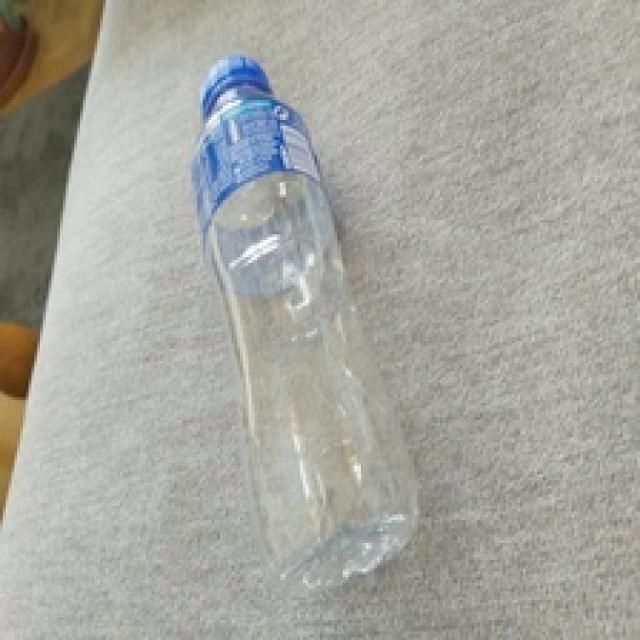bottle: (191, 54, 421, 590)
